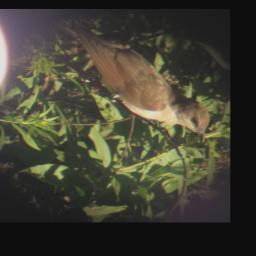Cuckoo: (48, 13, 211, 144)
